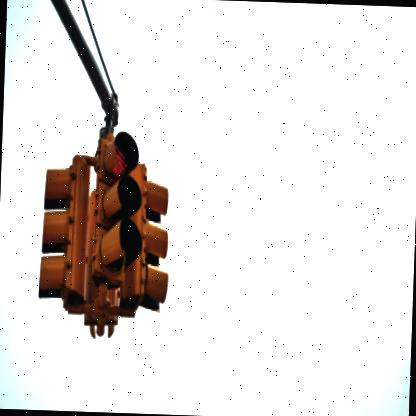trafficlight: (90, 133, 142, 319), (32, 155, 90, 318), (138, 153, 174, 316)
